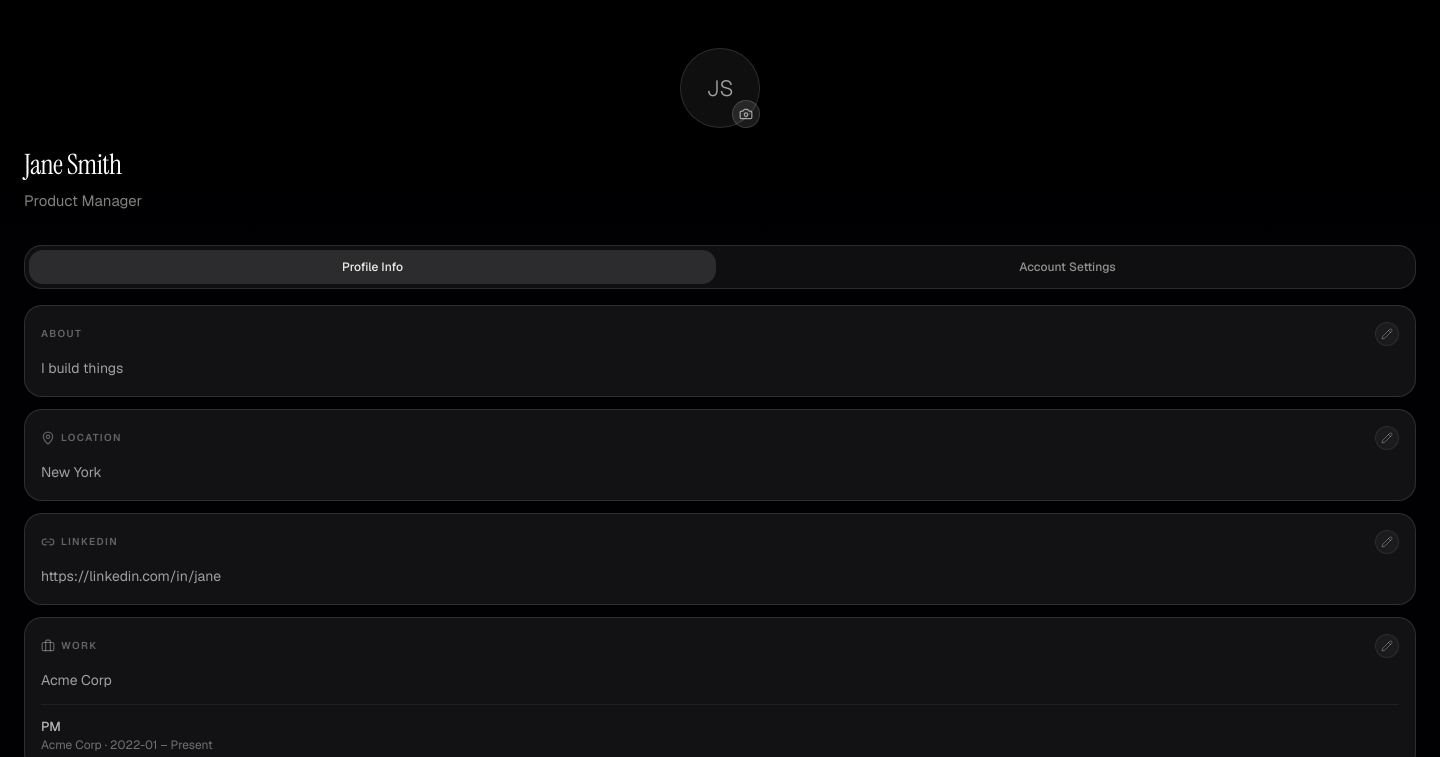
Test: ProfilePage › shows sign out button
The width and height of the screenshot is (1440, 757).
Expected: the button "Profile Info" is shown, [29,250,716,284]
Expected: the text "Sign Out" is not shown
Click the button "Account Settings" at [1068, 266], box [724,250,1411,284]
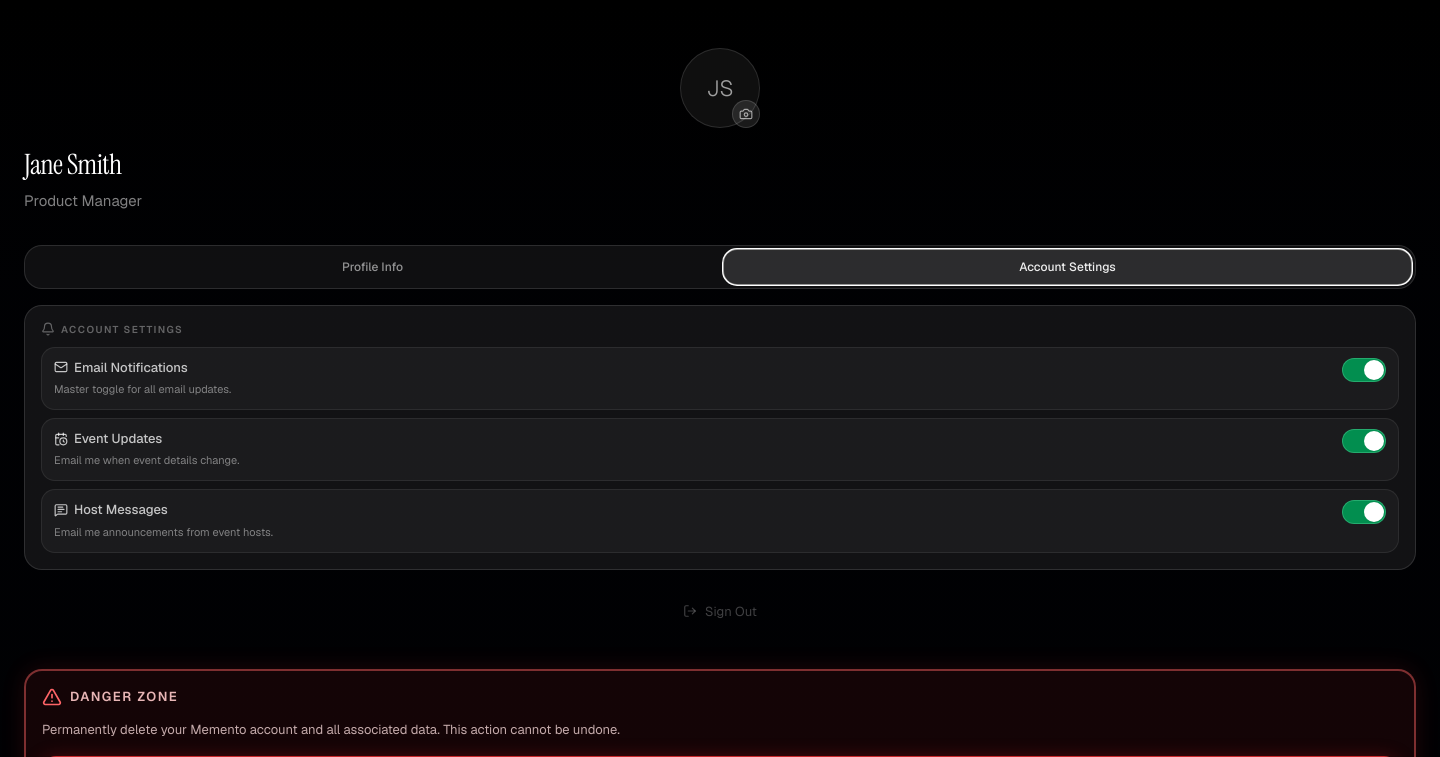
Expected: the button "Sign Out" is shown, [24,594,1416,629]
